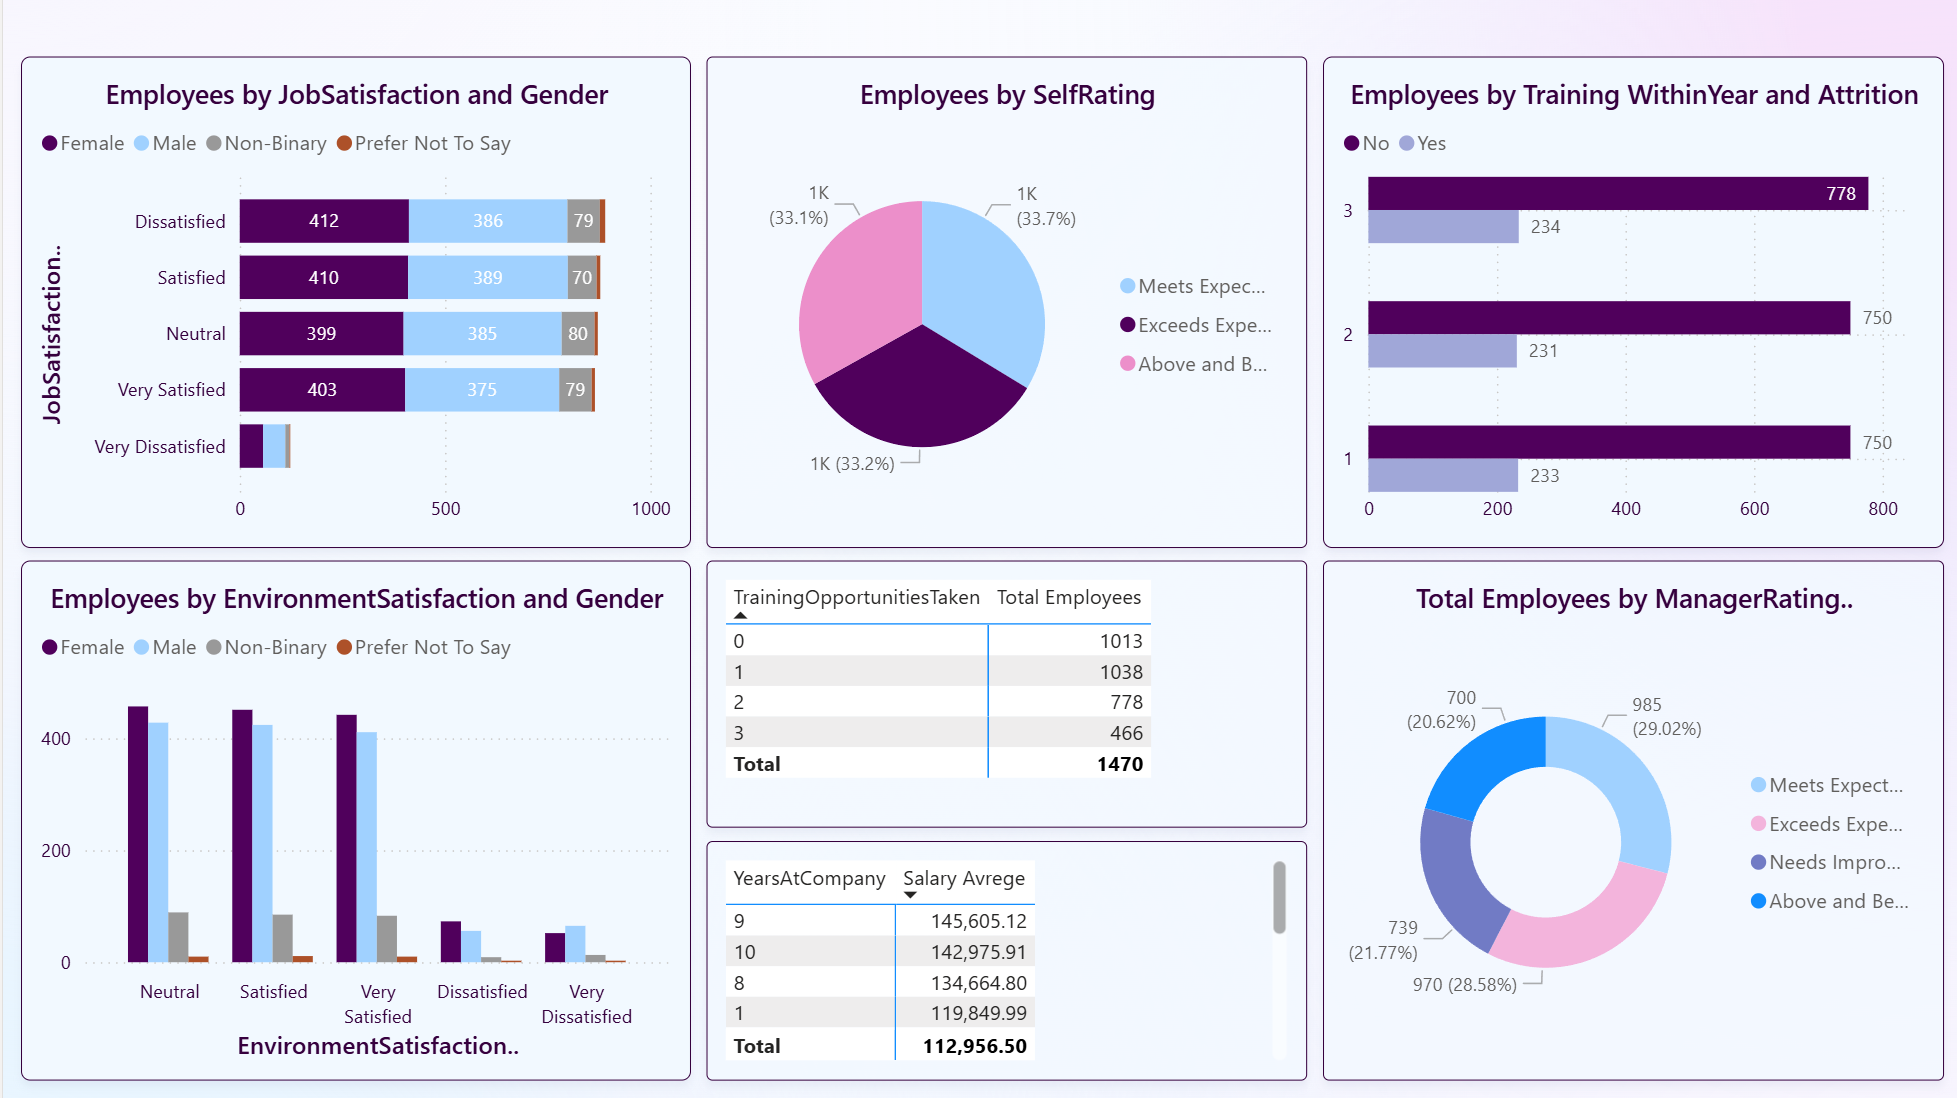

The dashboard page shown, as its layout file describes it:
{"tool":"powerbi","page":{"name":"Page 4","canvas":[1280,720],"ordinal":3},"visuals":[{"type":"clusteredColumnChart","title":"Employees by EnvironmentSatisfaction and Gender","fields":{"Category":["PerformanceRating.EnvironmentSatisfaction.."],"Series":["Employee.Gender"],"Y":["Employee.Total Employees"]},"box":[12.2,368.1,437.8,339.9],"z":0},{"type":"barChart","title":"Employees by JobSatisfaction and Gender","fields":{"Category":["PerformanceRating.JobSatisfaction.."],"Series":["Employee.Gender"],"Y":["Employee.Total Employees"]},"box":[12.2,37.9,437.8,321.6],"z":1000},{"type":"pieChart","title":"Employees by SelfRating","fields":{"Category":["PerformanceRating.SelfRating.."],"Y":["Employee.Total Employees"]},"box":[459.8,37.9,392.5,321.6],"z":2000},{"type":"donutChart","fields":{"Category":["PerformanceRating.ManagerRating.."],"Y":["Employee.Total Employees"]},"box":[863.3,368.1,406,339.9],"z":3000},{"type":"clusteredBarChart","title":" Employees by Training WithinYear and Attrition","fields":{"Category":["PerformanceRating.TrainingOpportunitiesWithinYear"],"Y":["Employee.Total Employees"],"Series":["Employee.Attrition"]},"box":[863.3,37.9,406,321.6],"z":4000},{"type":"pivotTable","fields":{"Rows":["PerformanceRating.TrainingOpportunitiesTaken"],"Values":["Employee.Total Employees"]},"box":[459.8,368.1,392.5,174.9],"z":5000},{"type":"pivotTable","fields":{"Rows":["Employee.YearsAtCompany"],"Values":["Employee.Salary Avrege"]},"box":[459.8,551.5,392.5,156.5],"z":6000}]}

Visuals, with their boxes in screenshot pixels (x1, y1, x2, y2), scaled from the page's 1280x720 canvas onto the 1957x1098 screenshot:
"Employees by EnvironmentSatisfaction and Gender" clusteredColumnChart: select_region(19, 561, 688, 1080)
"Employees by JobSatisfaction and Gender" barChart: select_region(19, 58, 688, 548)
"Employees by SelfRating" pieChart: select_region(703, 58, 1303, 548)
donutChart - PerformanceRating.ManagerRating.. x Employee.Total Employees: select_region(1320, 561, 1941, 1080)
" Employees by Training WithinYear and Attrition" clusteredBarChart: select_region(1320, 58, 1941, 548)
pivotTable - PerformanceRating.TrainingOpportunitiesTaken x Employee.Total Employees: select_region(703, 561, 1303, 828)
pivotTable - Employee.YearsAtCompany x Employee.Salary Avrege: select_region(703, 841, 1303, 1080)
